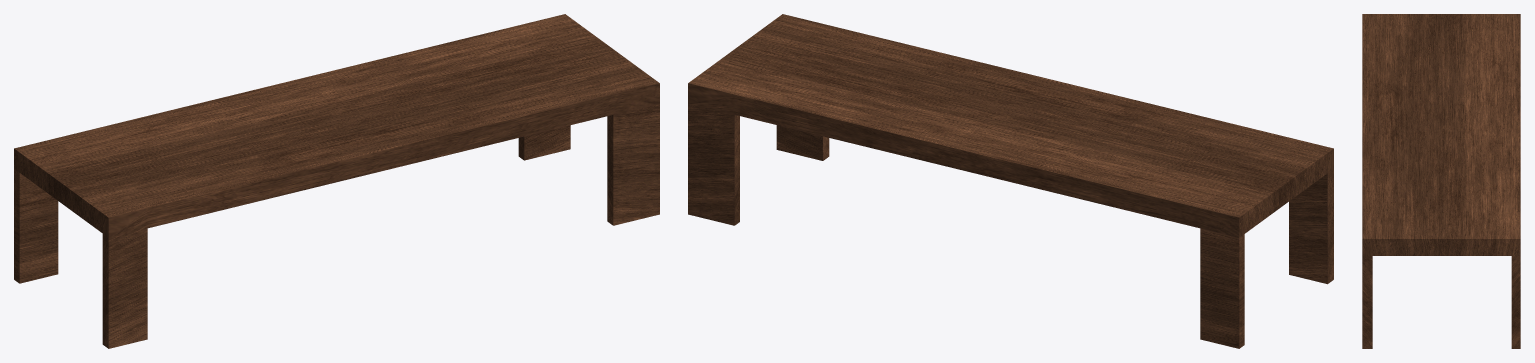
File: mesa_tele.fbx
The picture shows the model from 3 angles, left to right: view 1: azimuth 30°, elevation 25°; view 2: azimuth 150°, elevation 25°; view 3: azimuth 270°, elevation 25°; orthographic projection. The views are drawn at different scales.
Parts seen in each view (by area): view 1: mesa_tele; view 2: mesa_tele; view 3: mesa_tele.
Part boxes in pixels (x1,y1,x2,y2): mesa_tele: [14, 14, 659, 348]; mesa_tele: [688, 14, 1333, 348]; mesa_tele: [1362, 14, 1520, 348].
Bounding box in the file's own units: 404 × 91.97 × 120.
